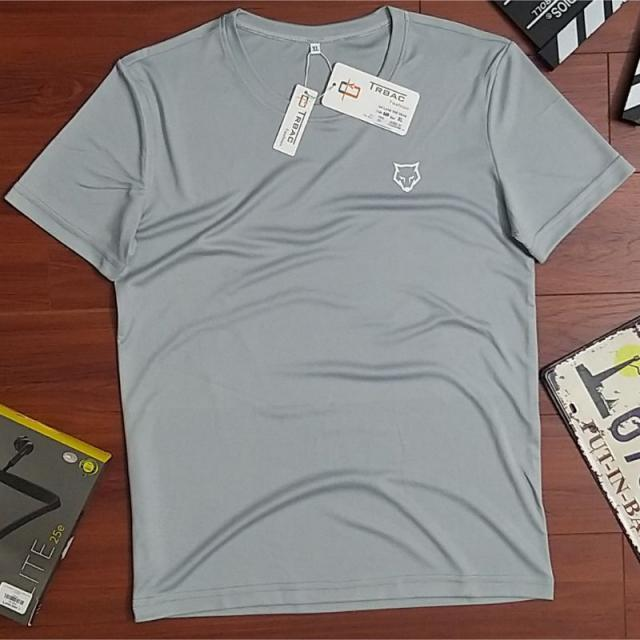Shirt: (3, 14, 639, 622)
